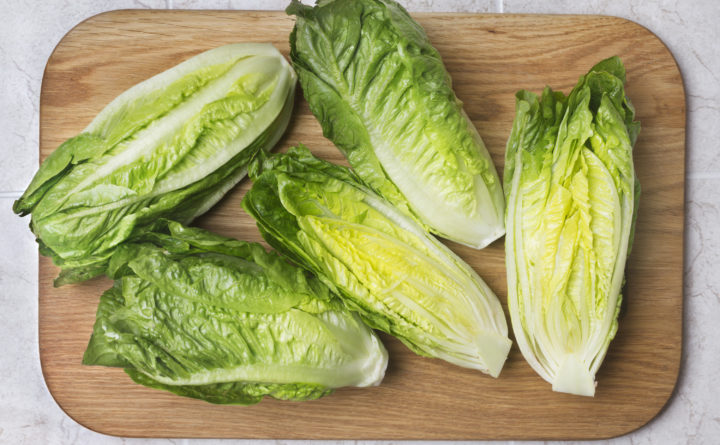chopped lettuce: (96, 233, 369, 400), (510, 78, 625, 394)
